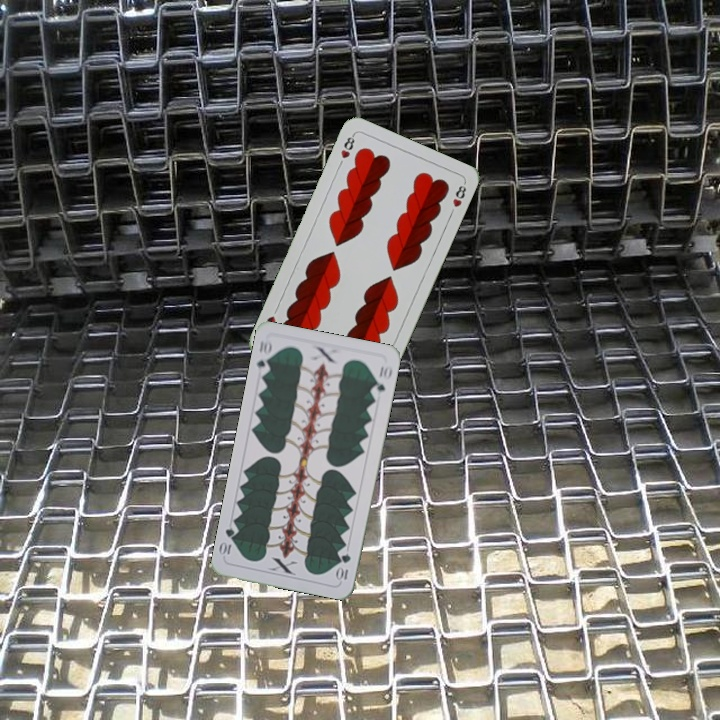G10: (253, 335, 274, 377), (333, 549, 353, 584)
H8: (337, 130, 357, 161)
